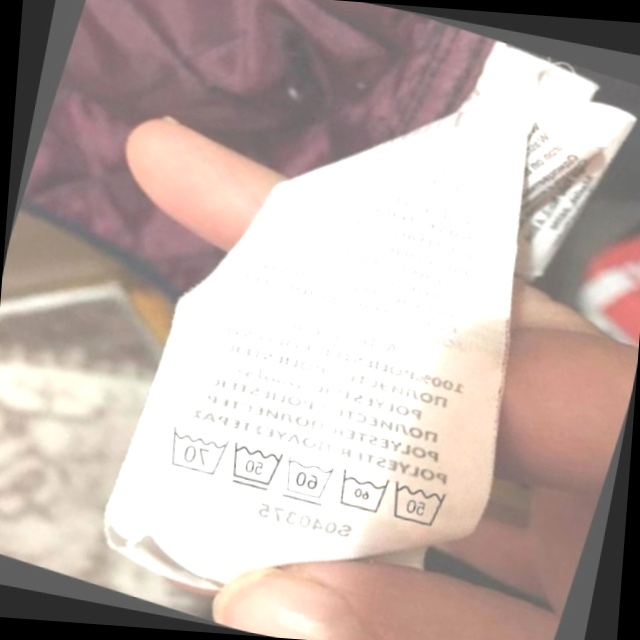50C: (379, 468, 457, 538), (217, 433, 290, 500)
60C: (271, 446, 340, 512), (326, 460, 396, 523)
70C: (154, 418, 233, 483)
